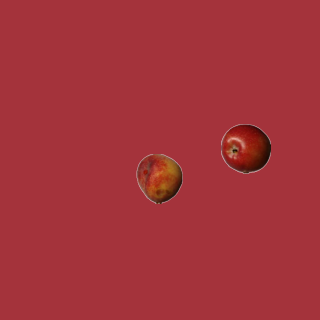Apple Braeburn: (220, 123, 270, 173)
Peach: (134, 153, 184, 203)
